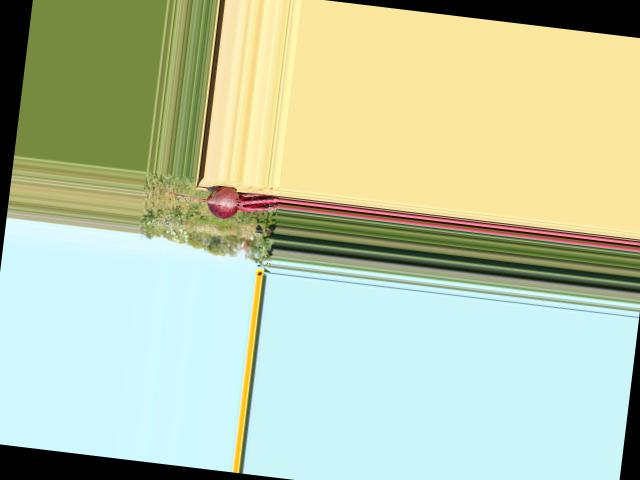beet: (146, 176, 281, 224)
